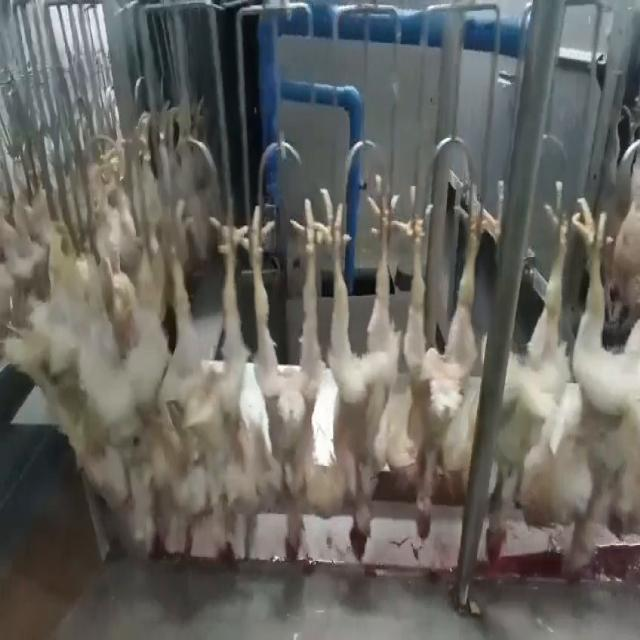chicken: (388, 185, 489, 544), (486, 189, 578, 564), (325, 170, 407, 565), (170, 202, 252, 574), (251, 195, 324, 564), (572, 195, 640, 584), (90, 216, 164, 554)
